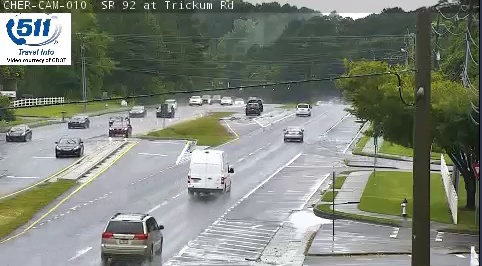car: (102, 215, 163, 256), (284, 127, 302, 141), (296, 103, 311, 115)
van: (189, 150, 231, 193)
